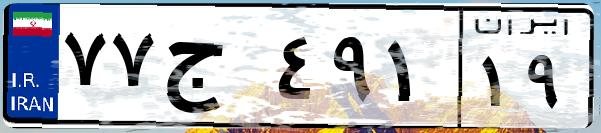1: (385, 28, 445, 110), (475, 38, 525, 113)
4: (270, 28, 330, 110)
7: (57, 26, 110, 100), (110, 28, 158, 98)
9: (330, 28, 385, 110), (525, 38, 570, 115)
ج: (158, 20, 270, 120)
